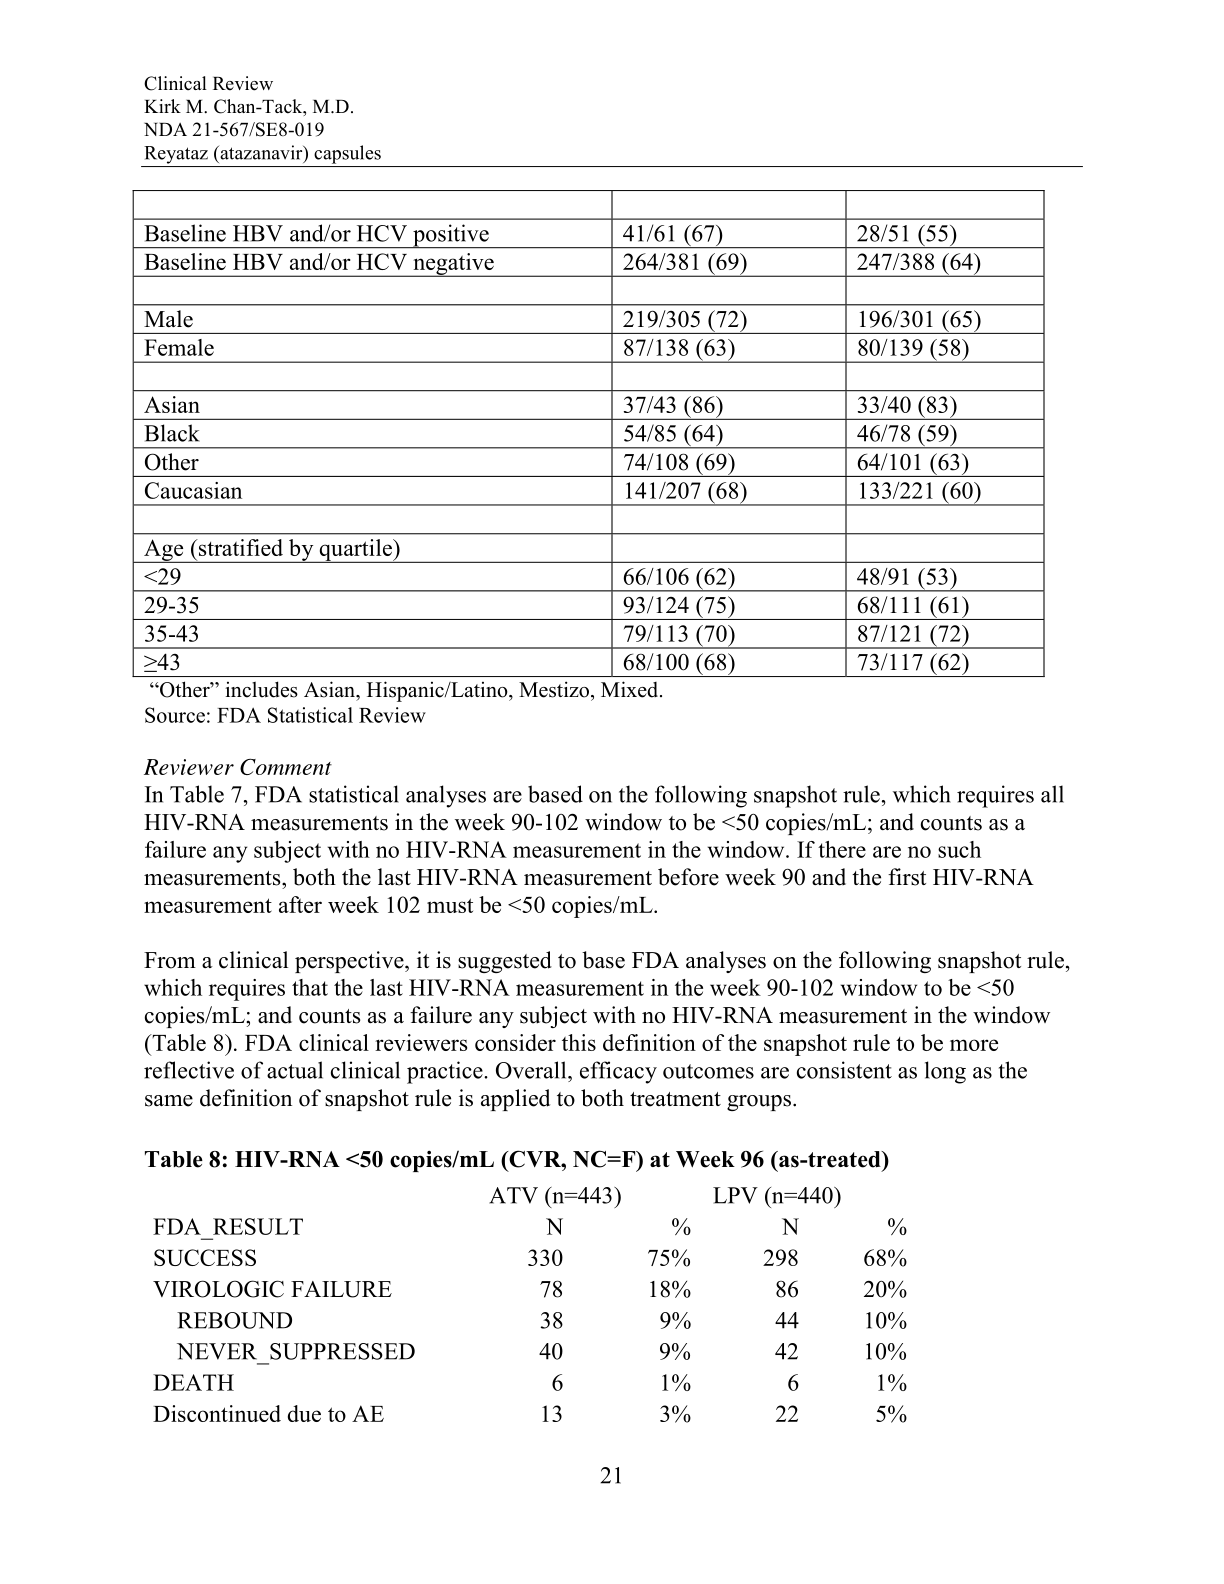full_lined: (131, 190, 1047, 678)
nolines: (150, 1188, 912, 1423)
